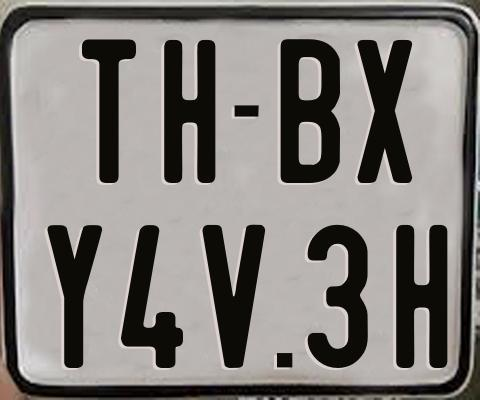3: (306, 224, 367, 367)
4: (120, 225, 187, 373)
B: (280, 39, 340, 184)
H: (394, 223, 452, 370), (163, 37, 219, 186)
T: (82, 38, 141, 183)
V: (202, 224, 265, 372)
X: (356, 40, 414, 185)
Y: (47, 222, 102, 368)
